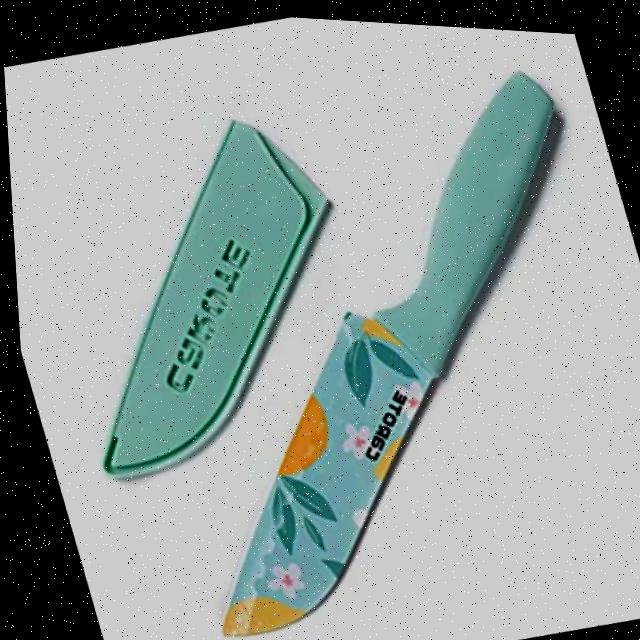knife: (74, 35, 640, 640)
